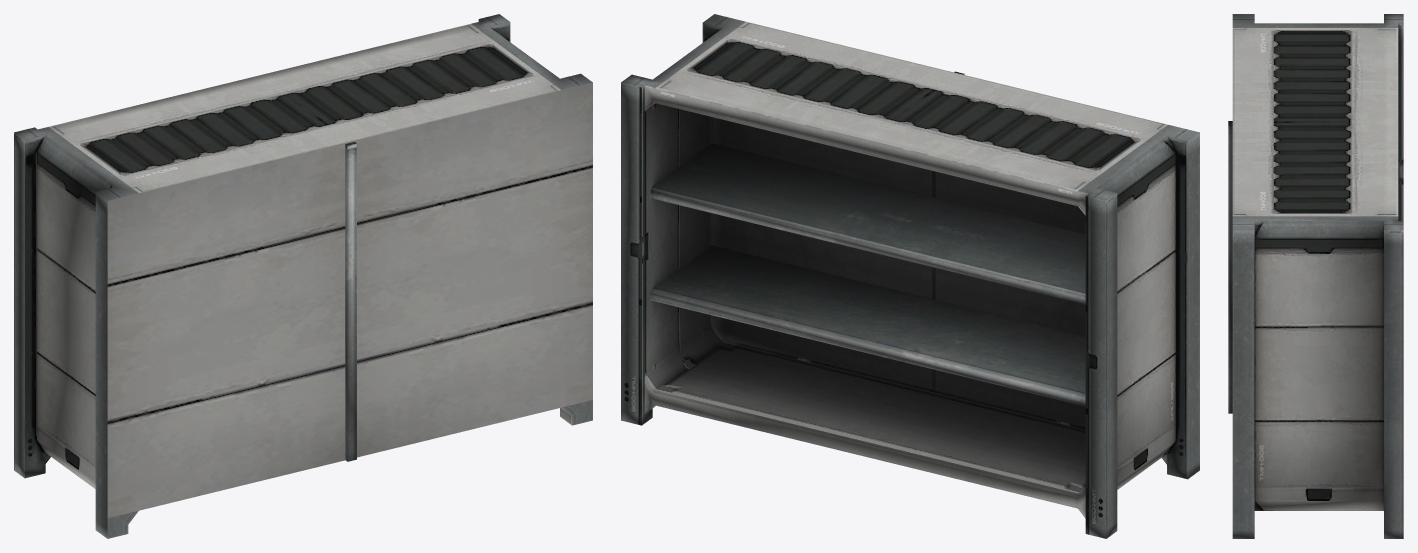
The model's file is Shelf02_L.FBX.
3 renders of one model, left to right at view 1: azimuth 30°, elevation 25°; view 2: azimuth 150°, elevation 25°; view 3: azimuth 270°, elevation 25°, orthographic. The views are drawn at different scales.
Visible parts, largest first — view 1: Shelf02_L; view 2: Shelf02_L; view 3: Shelf02_L.
Boxes of the visible parts, x1,y1,x2,y2 form: Shelf02_L: [14, 14, 592, 538]; Shelf02_L: [621, 14, 1199, 538]; Shelf02_L: [1228, 14, 1403, 538].
Bounding box in the file's own units: 3 × 2 × 1.03.
